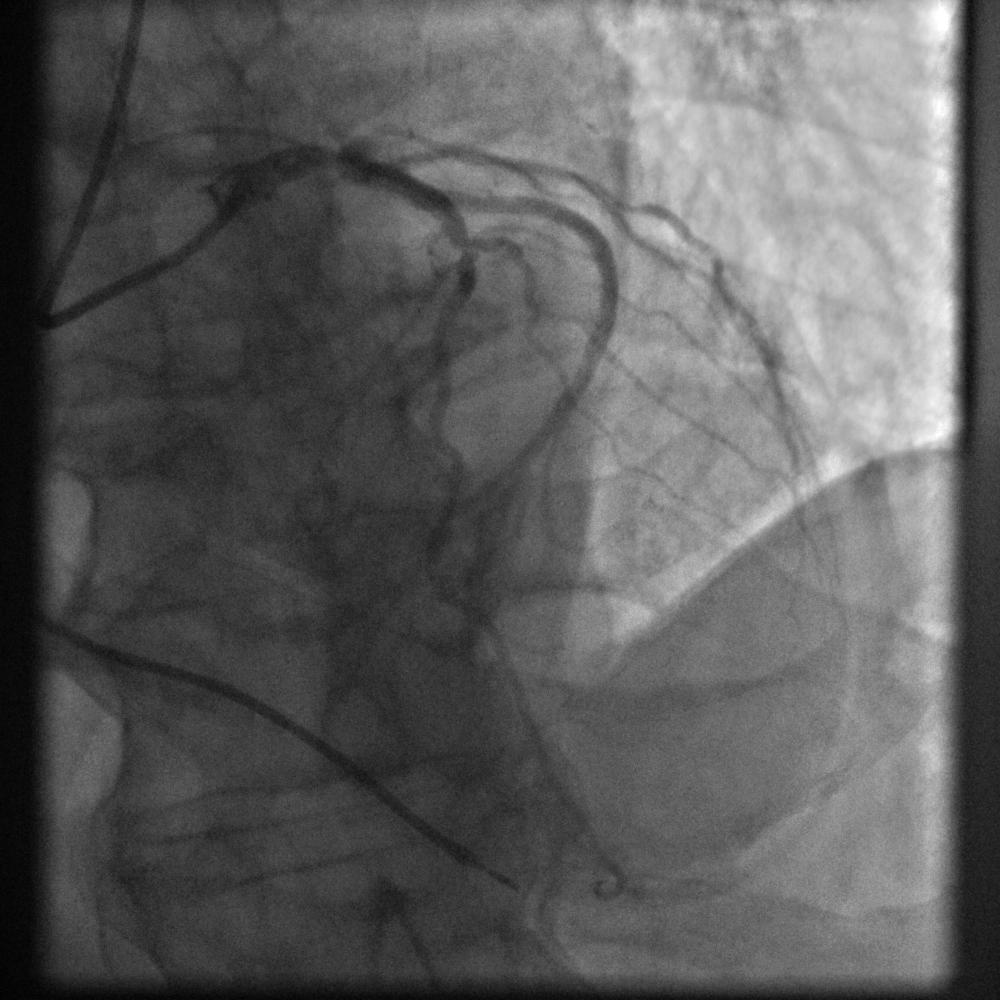Stenosis: (440, 221, 512, 272)
